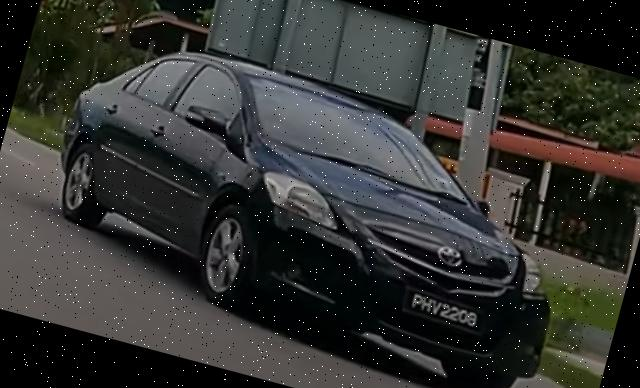License_Plate: (399, 285, 490, 337)
car: (24, 21, 597, 388)
